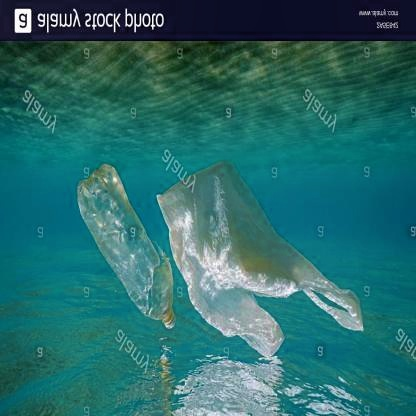pbag: (150, 154, 372, 361)
pbottle: (70, 160, 182, 332)
